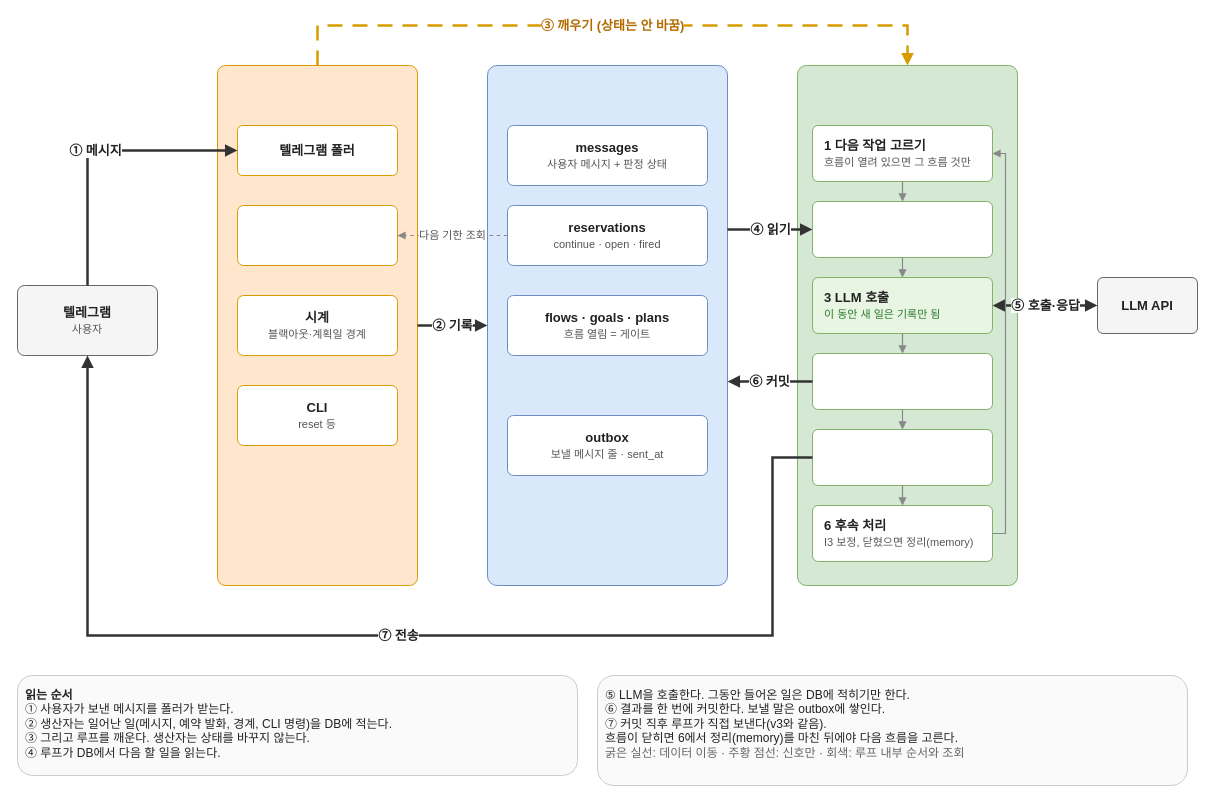
The diagram is 1215 pixels wide and 803 high, and some of its shapes have lost their labels. Each missing label, with the box of its shape:
2 읽기 상태 확인, 스냅샷: (812, 200, 992, 258)
4 커밋 상태 갱신 + outbox 적재: (812, 352, 992, 410)
5 전송 outbox 순서대로, sent_at 기록: (812, 428, 992, 486)
SQLite 유일한 진실: (486, 64, 728, 586)
루프 단일 스레드, 한 번에 하나: (796, 64, 1018, 586)
생산자 기록하고 깨우기만: (216, 64, 418, 586)
타이머 다음 기한 1개 대기: (236, 204, 398, 266)
